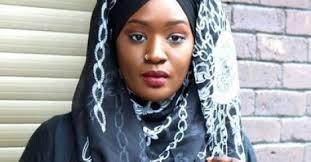No Mask: (94, 1, 235, 135)
